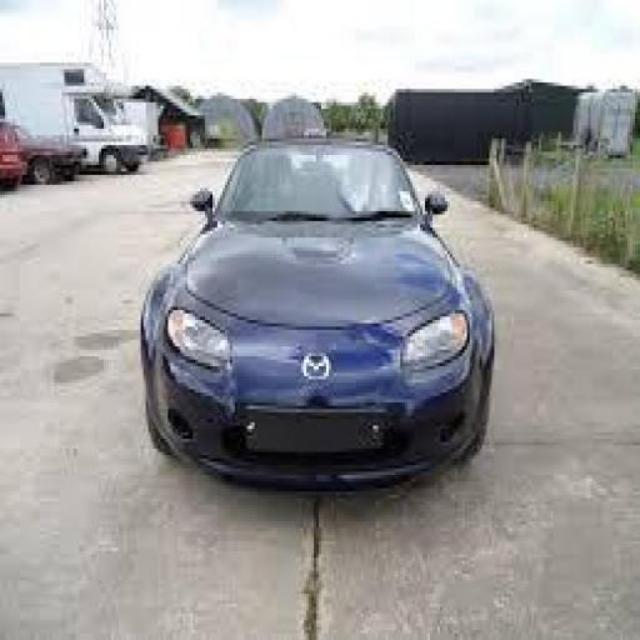rub: (155, 346, 243, 414)
